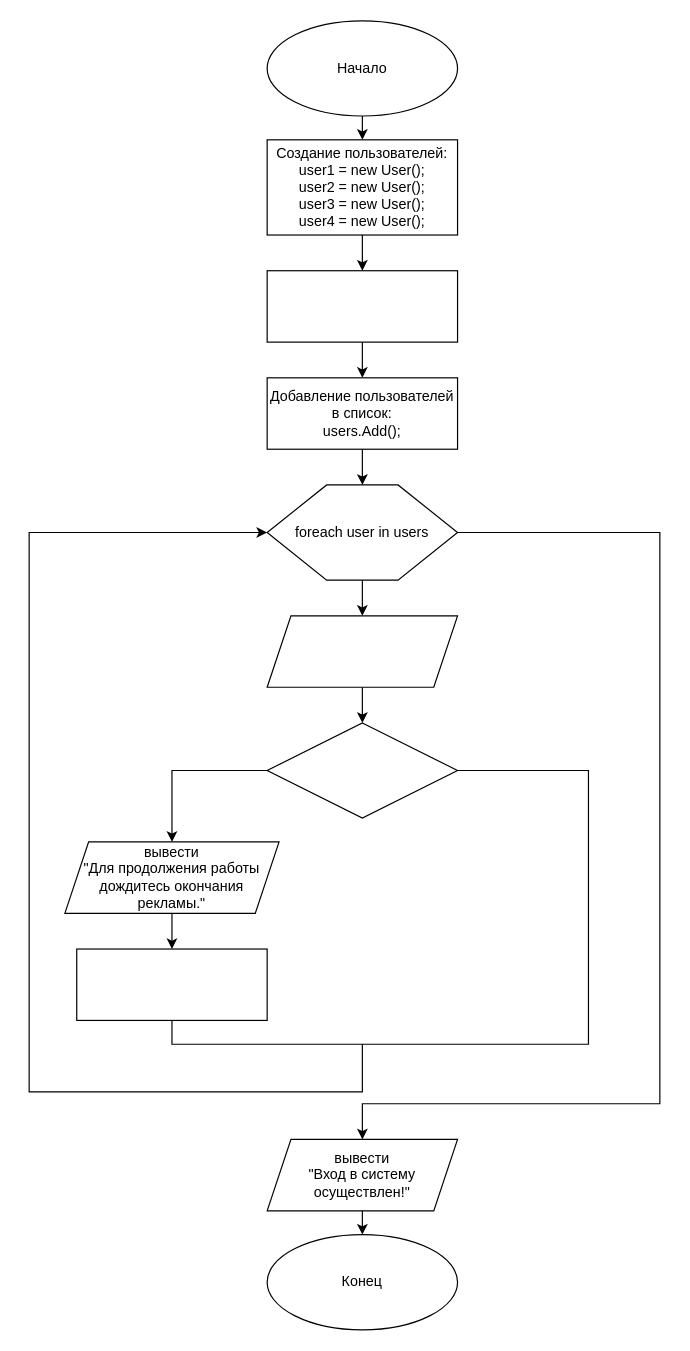
The diagram is 690 pixels wide and 1351 high, and some of its shapes have lost their labels. The box of each missing label's shape, as (x1, y1, x2, y2) in pixels:
!user.IsPremium: (266, 722, 458, 818)
ShowAds();: (76, 948, 267, 1020)
вывести "Добро пожаловать {user.Name}": (266, 615, 458, 687)
Создание списка: users = new List<>();: (266, 270, 458, 342)
